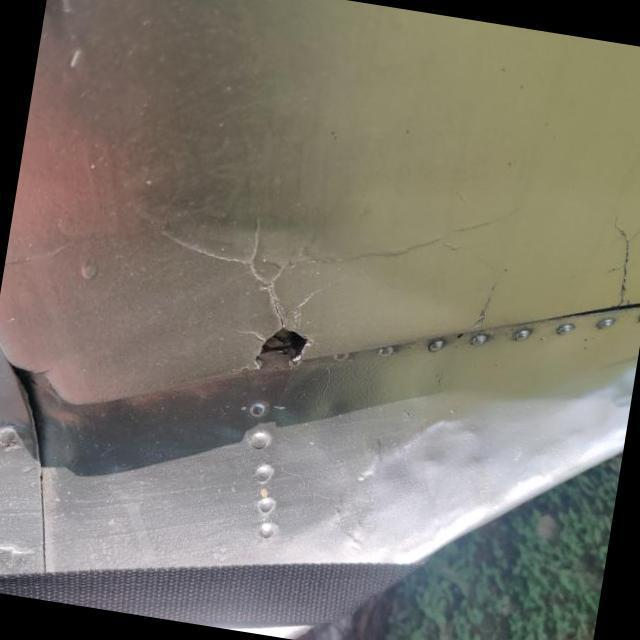Rupture: (120, 194, 350, 400)
